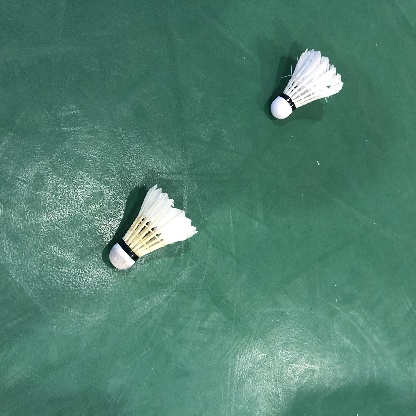ball_single: (109, 184, 198, 269), (271, 49, 344, 119)
